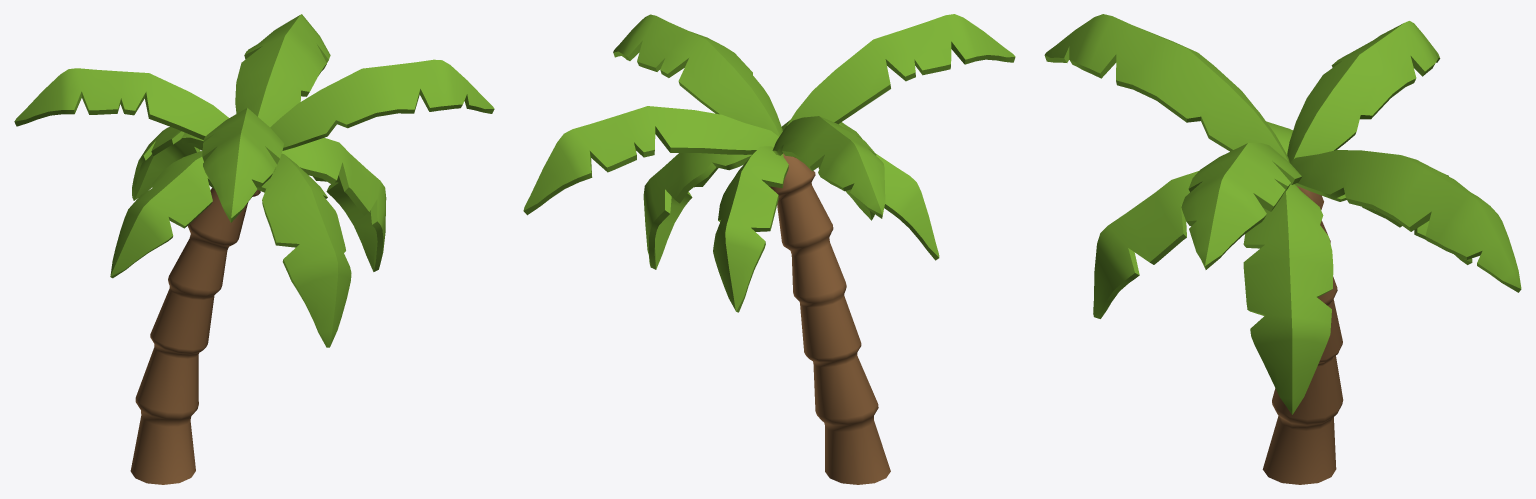
The model's file is palm.glb.
The picture shows the model from 3 angles, left to right: view 1: azimuth 30°, elevation 25°; view 2: azimuth 150°, elevation 25°; view 3: azimuth 270°, elevation 25°; orthographic projection. The views are drawn at different scales.
Visible parts, largest first — view 1: Environment_PalmTree_2; view 2: Environment_PalmTree_2; view 3: Environment_PalmTree_2.
Part boxes in pixels (box(x1,y1,x2,y2)): Environment_PalmTree_2: box(14, 14, 494, 484); Environment_PalmTree_2: box(523, 14, 1015, 484); Environment_PalmTree_2: box(1044, 14, 1521, 484).
Bounding box in the file's own units: 2.64 × 2.69 × 2.58.
Materials: 1 (1 with a texture image).
